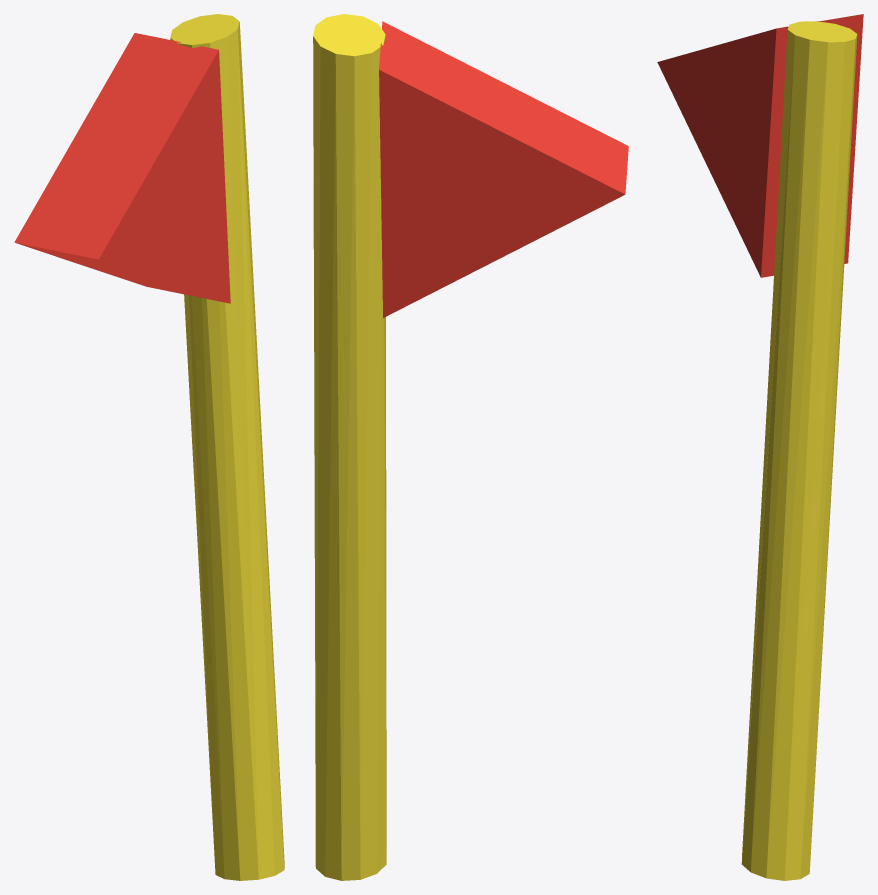
The picture shows the model from 3 angles, left to right: view 1: azimuth 30°, elevation 25°; view 2: azimuth 150°, elevation 25°; view 3: azimuth 270°, elevation 25°; orthographic projection. The views are drawn at different scales.
Parts seen in each view (by area): view 1: mesh_265952674, group_990489302; view 2: mesh_265952674, group_990489302; view 3: mesh_265952674, group_990489302.
Part boxes in pixels (<box>): mesh_265952674: <box>170,14,284,880</box>; group_990489302: <box>14,33,230,303</box>; mesh_265952674: <box>313,14,386,880</box>; group_990489302: <box>379,21,628,317</box>; mesh_265952674: <box>741,21,857,880</box>; group_990489302: <box>657,14,863,277</box>.
Size of the model in its own units: 36.35 by 103 by 23.22.
